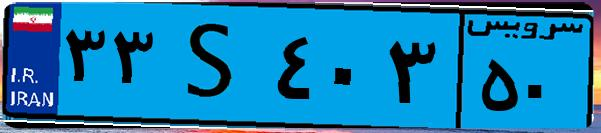0: (330, 28, 385, 110), (525, 38, 570, 115)
3: (385, 28, 445, 110), (57, 26, 110, 100), (110, 28, 158, 98)
4: (270, 28, 330, 110)
5: (475, 38, 525, 113)
S: (158, 12, 270, 120)
